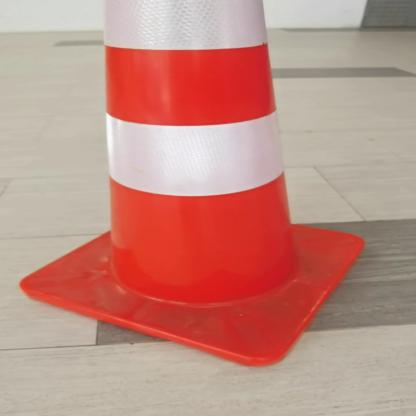cone: (5, 0, 374, 372)
